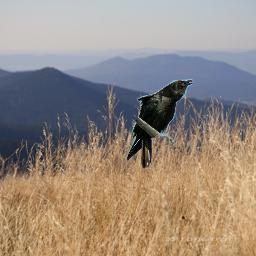Crow: (126, 79, 193, 169)
